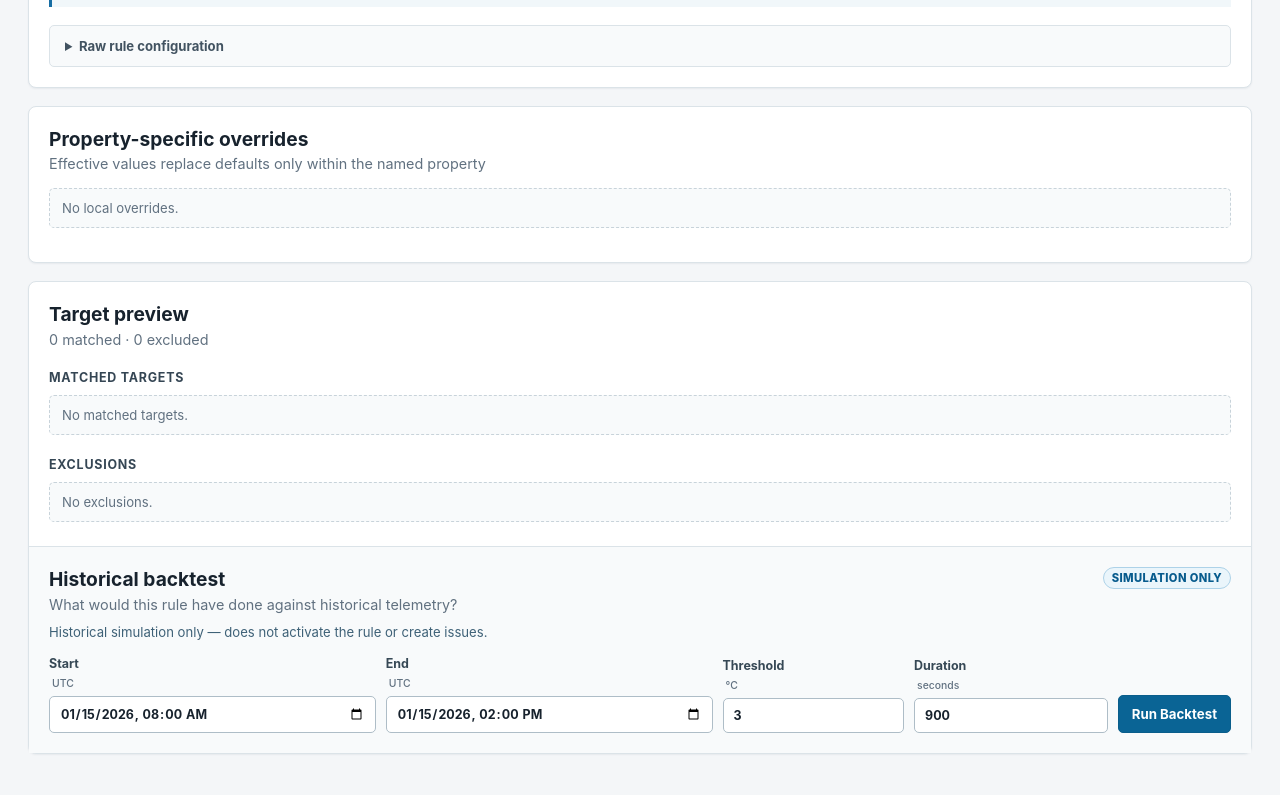
Test: operations dashboard › runs and labels a read-only historical backtest
The image size is (1280, 795).
(page scrolled)
Click the button "Run Backtest" at x=1174, y=714, box [1118,694,1231,732]
(page scrolled)
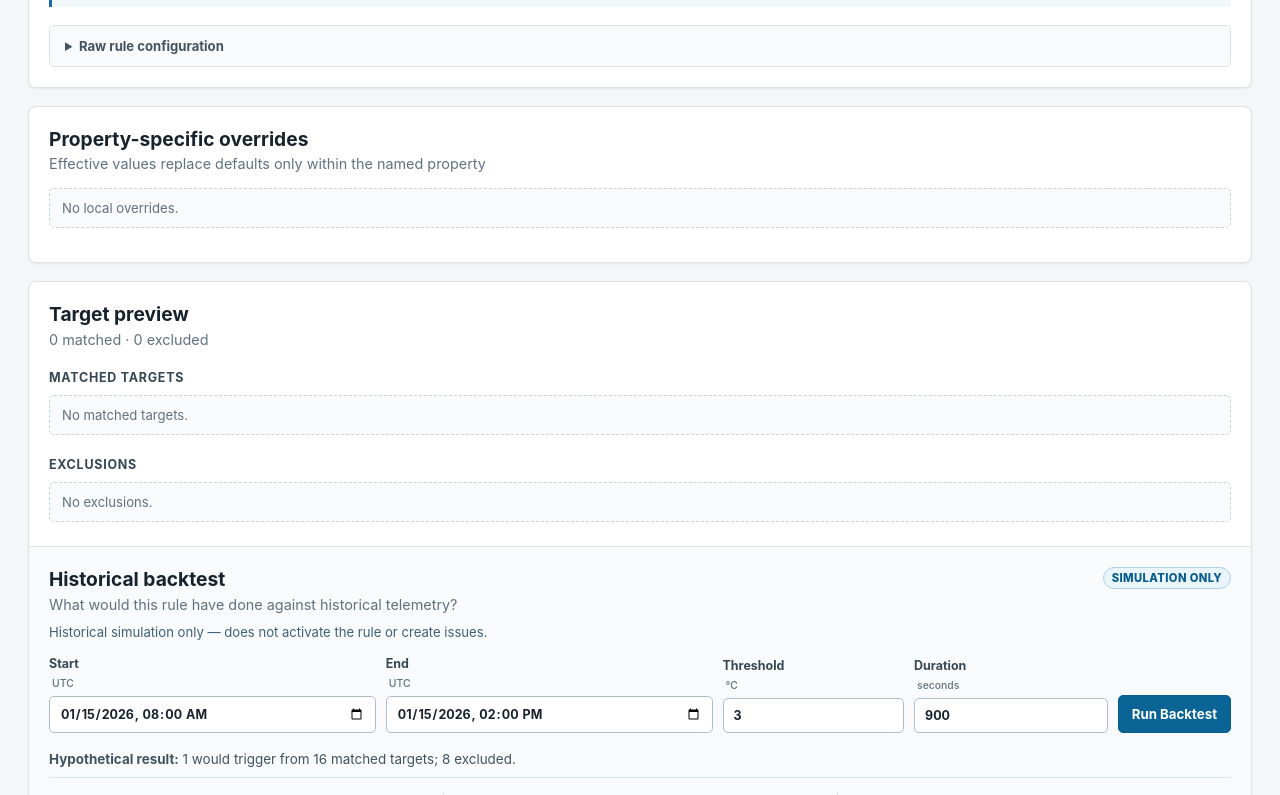
Check: the text "1 would trigger" is shown, box [49,750,516,766]
